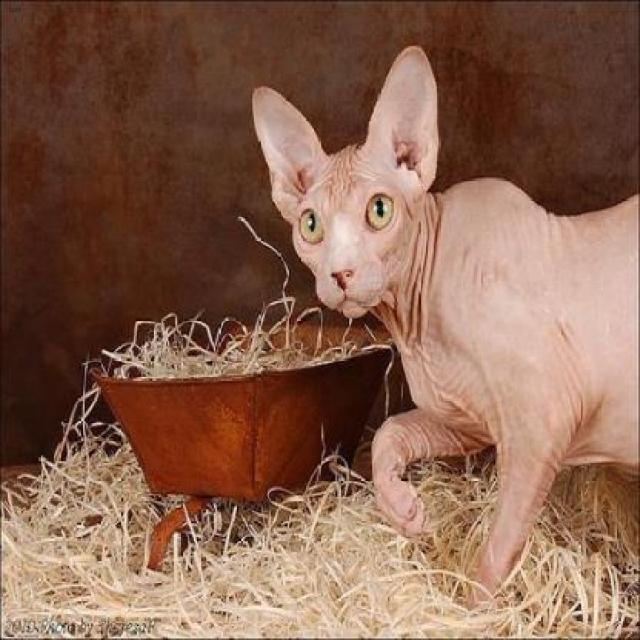cat: (251, 45, 638, 608)
